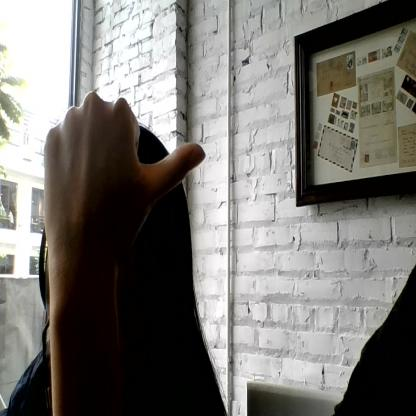left: (41, 89, 210, 244)
